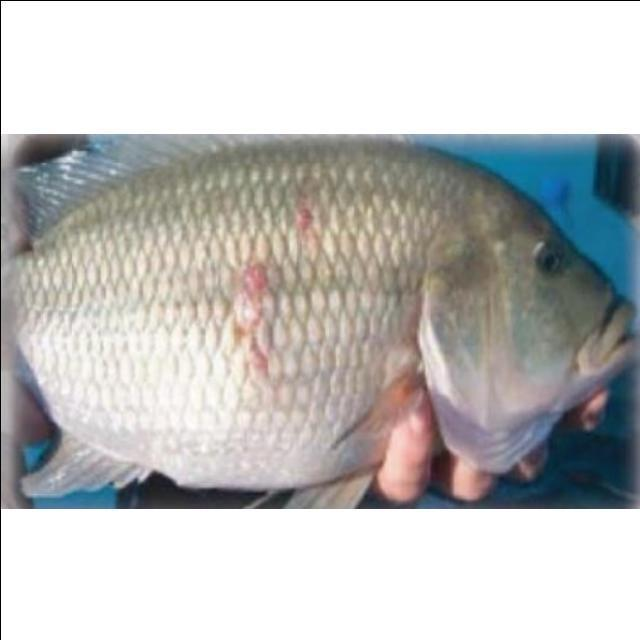EUS Disease: (0, 132, 640, 503), (176, 144, 363, 447)
